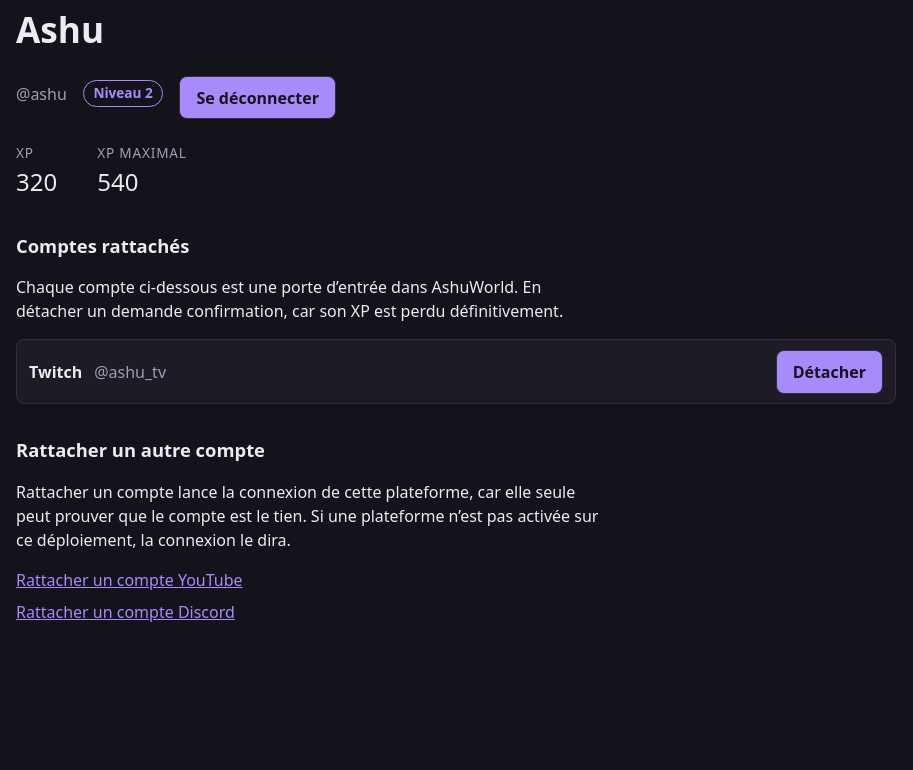
Test: Account, signed in › names the permanence of the forfeit for a later re-attach in the confirmation
What coordinates should you click on to do the following:
click the button with aria-label "détacher le compte twitch ashu_tv"
I would click on:
 (829, 372)
Its box is [776, 350, 883, 394].
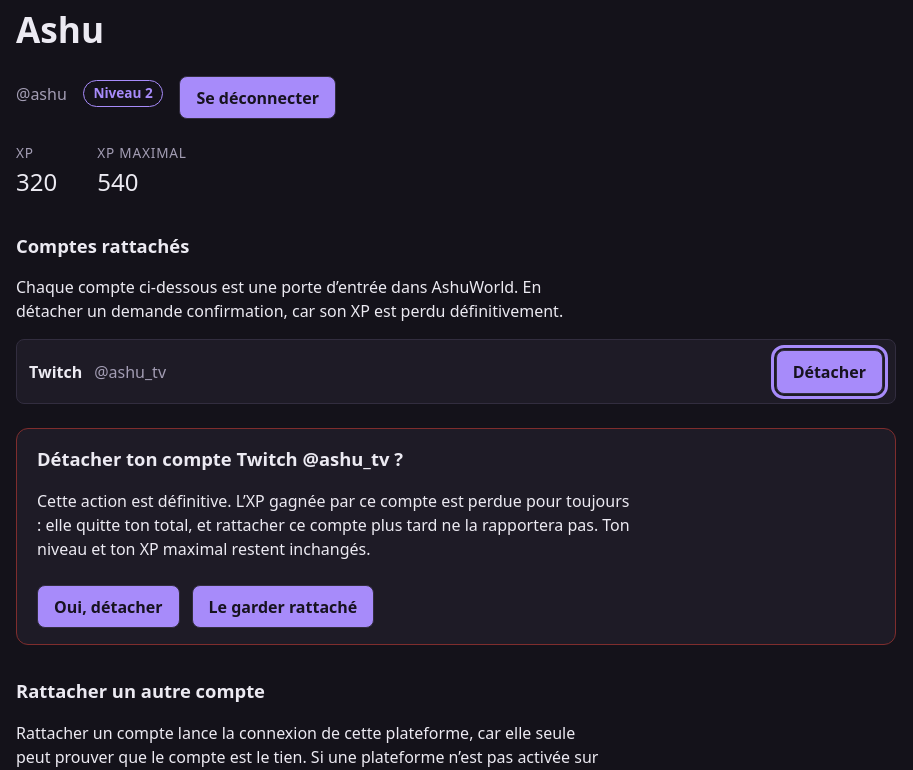
Check: the text "rattacher ce compte plus tard ne la rapportera pas" is shown, box [37, 490, 630, 560]
